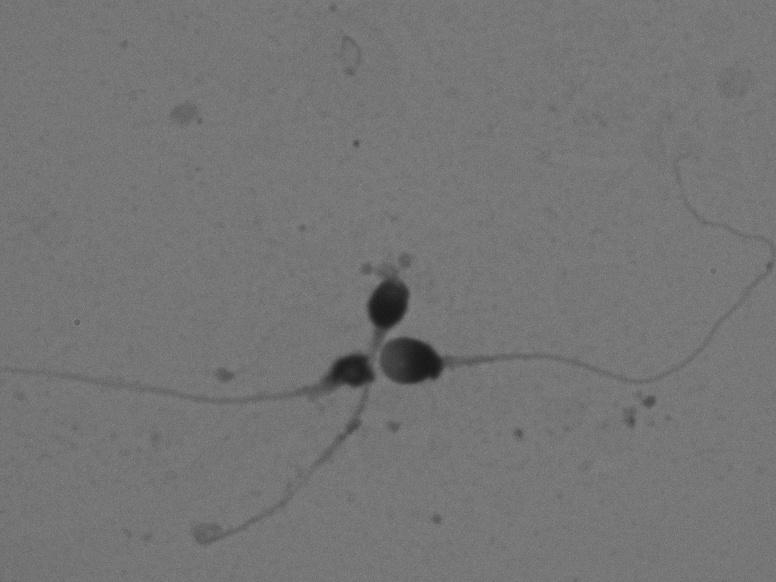Abnormal: (375, 140, 773, 400), (172, 266, 431, 571), (3, 325, 376, 441)
